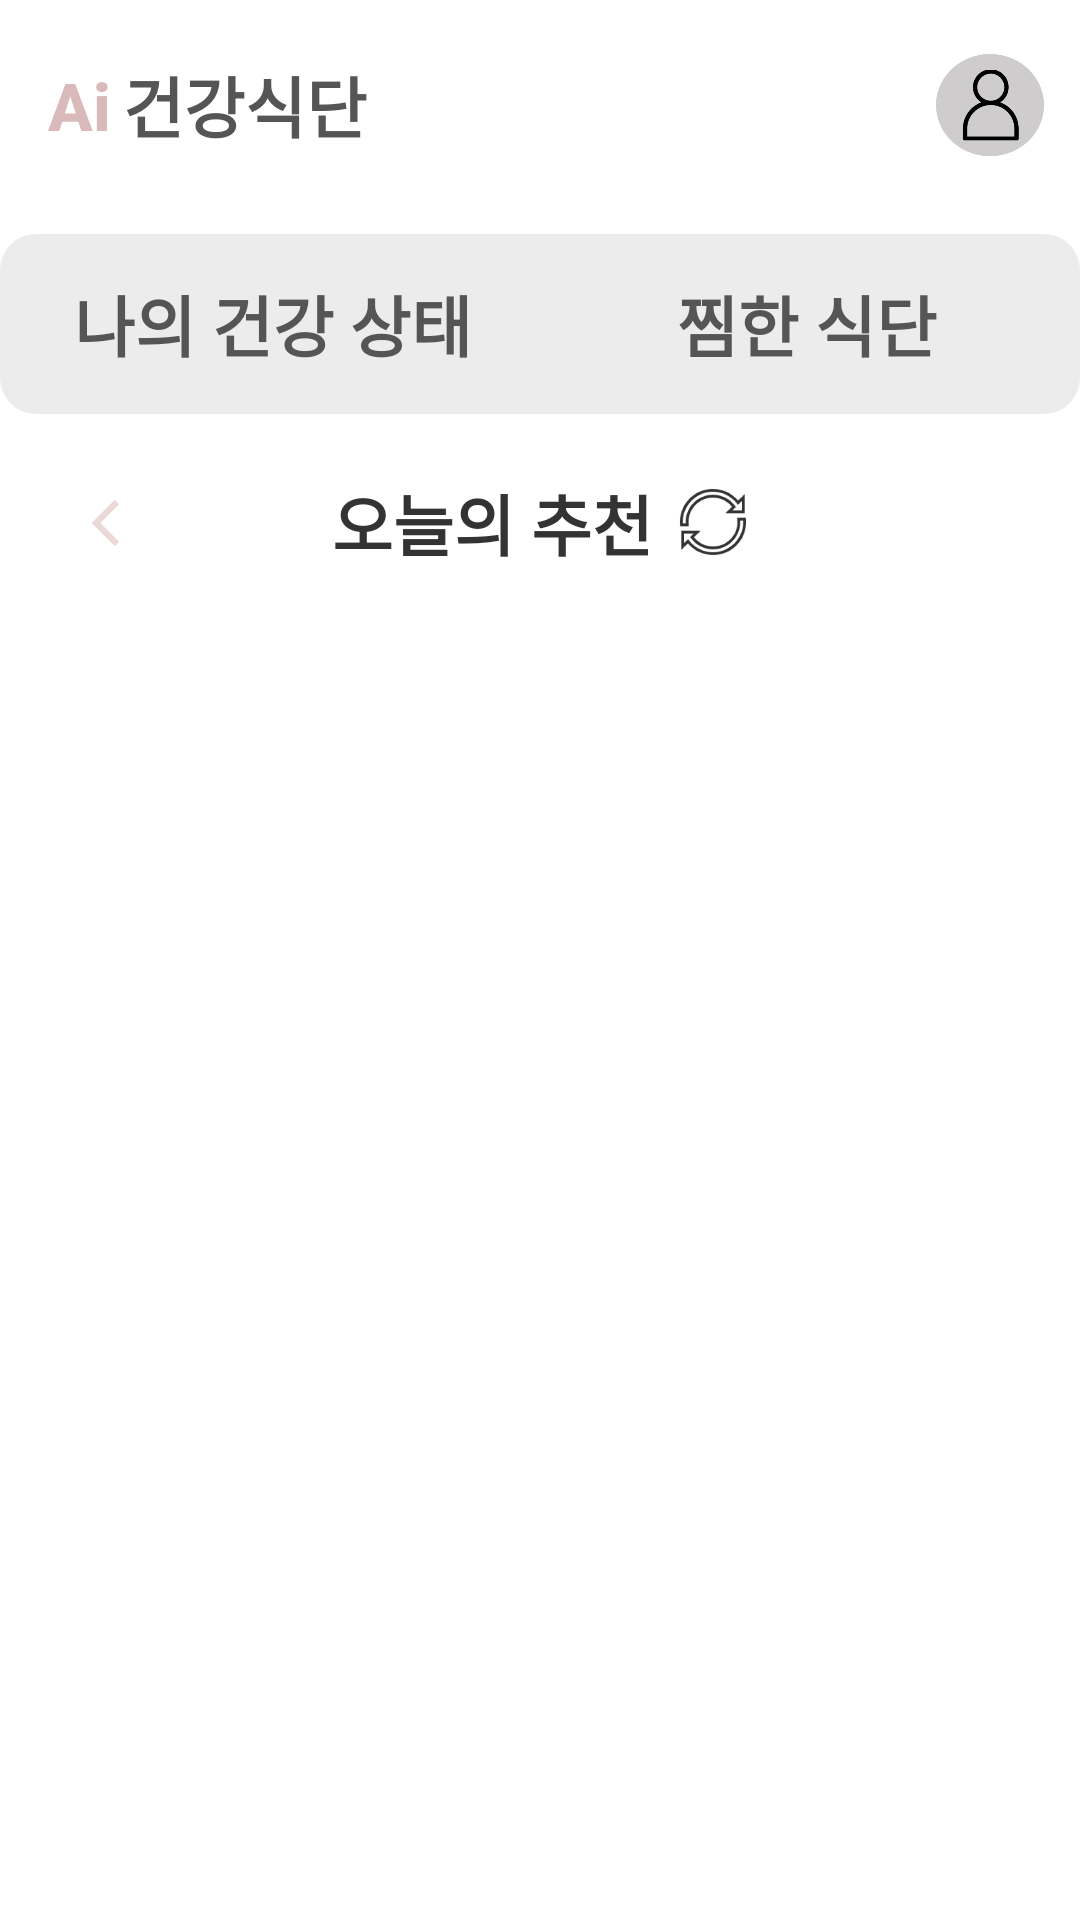

Icons on this 1080×1920 Android screen, each with the point to tap as point (x, y):
뒤로가기: point (105, 523)
마이페이지: point (990, 105)
